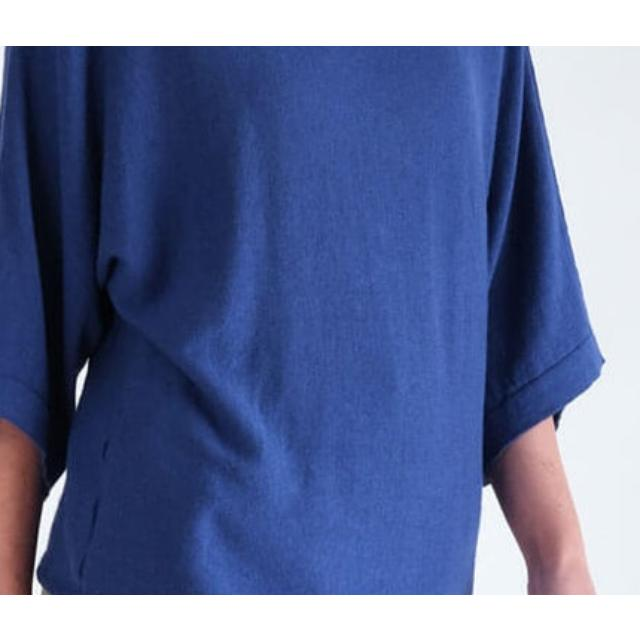linen: (0, 46, 618, 594)
